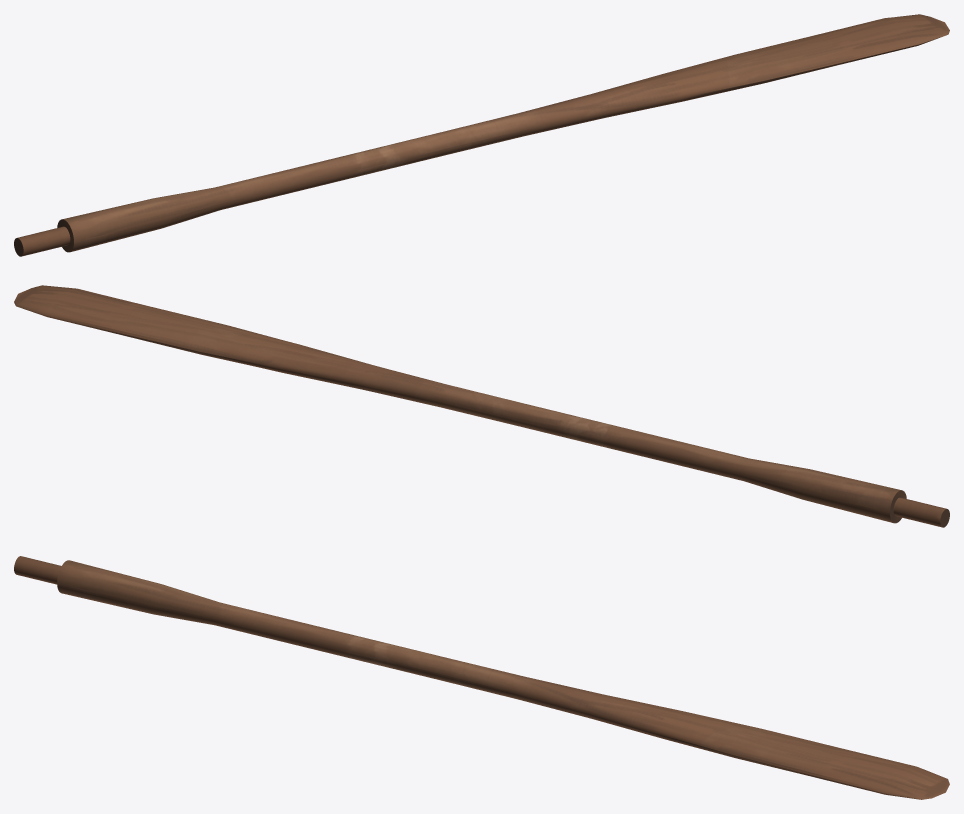
The model's file is Oars01.fbx.
3 views of the same model, one above another, from view 1: azimuth 30°, elevation 25°; view 2: azimuth 150°, elevation 25°; view 3: azimuth 330°, elevation 25° (orthographic).
Parts seen in each view (by area): view 1: oar_01; view 2: oar_01; view 3: oar_01.
Boxes of the visible parts, bbox=[...] form: oar_01: bbox=[14, 14, 949, 256]; oar_01: bbox=[14, 285, 949, 527]; oar_01: bbox=[14, 556, 949, 799].
Size of the model in its own units: 342 by 10.89 by 22.
1 material, 1 textured.
